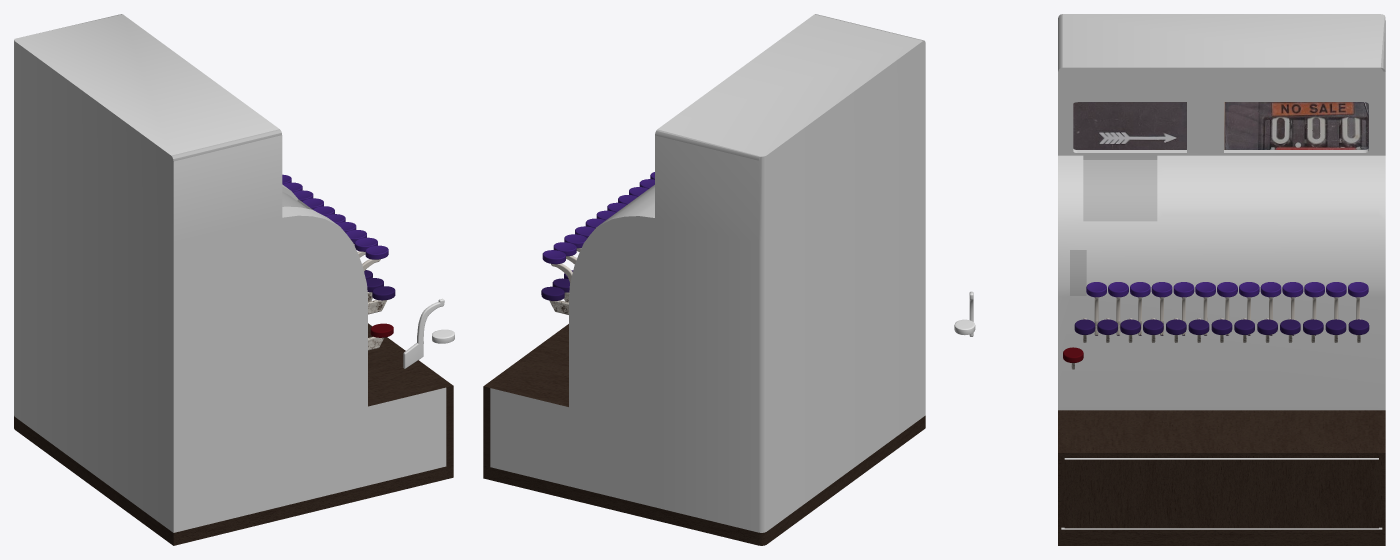
Rendered from CashRegister.fbx.
3 views of the same model, side by side, from view 1: azimuth 30°, elevation 25°; view 2: azimuth 150°, elevation 25°; view 3: azimuth 270°, elevation 25° (orthographic).
Parts seen in each view (by area): view 1: CashRegister, Cylinder.002, Cylinder.004, Cylinder.003; view 2: CashRegister, Cylinder.002, Cylinder.004; view 3: CashRegister, Cylinder.002, Cylinder.004.
Boxes of the visible parts, x1,y1,x2,y2 form: CashRegister: (14, 14, 453, 545); Cylinder.002: (282, 174, 388, 271); Cylinder.004: (364, 270, 395, 314); Cylinder.003: (403, 298, 444, 368); CashRegister: (483, 14, 925, 545); Cylinder.002: (542, 172, 654, 283); Cylinder.004: (541, 270, 573, 314); CashRegister: (1058, 14, 1385, 545); Cylinder.002: (1086, 282, 1368, 335); Cylinder.004: (1074, 318, 1369, 342).
Size of the model in its own units: 34.93 by 46.33 by 45.98.
11 materials, 6 textured.
